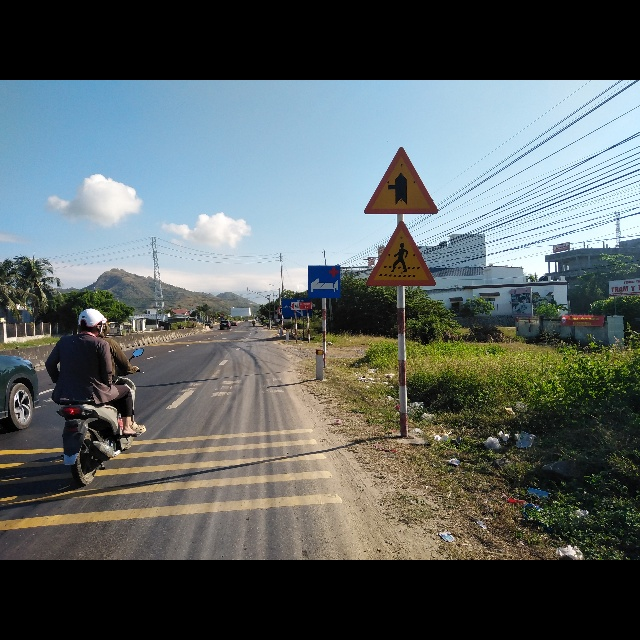Bệnh viện: (307, 263, 340, 299)
Giao nhau với đường không ưu tiên: (363, 143, 438, 213)
Đường người đi bộ sang đường: (365, 223, 438, 288)
